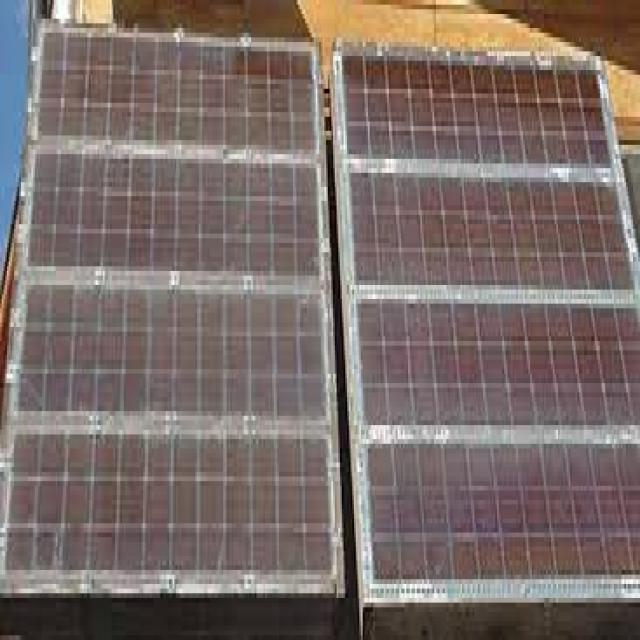faulty: (343, 44, 639, 640), (24, 39, 338, 589)
